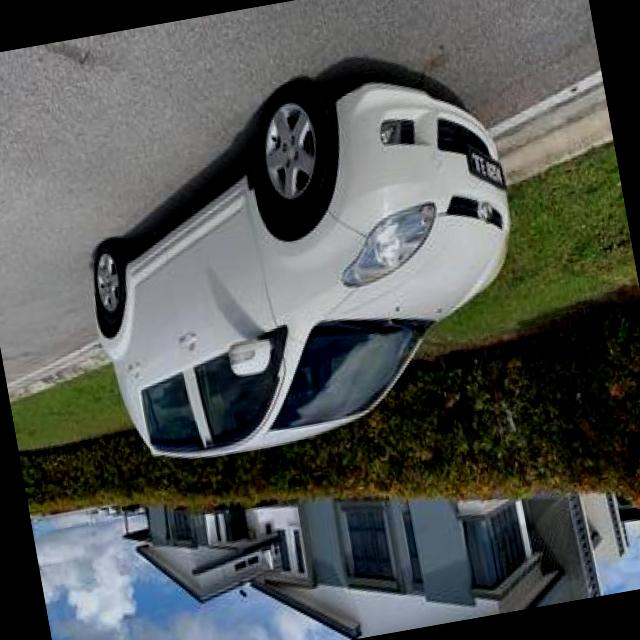PeroduaMyvi: (58, 46, 546, 477)
